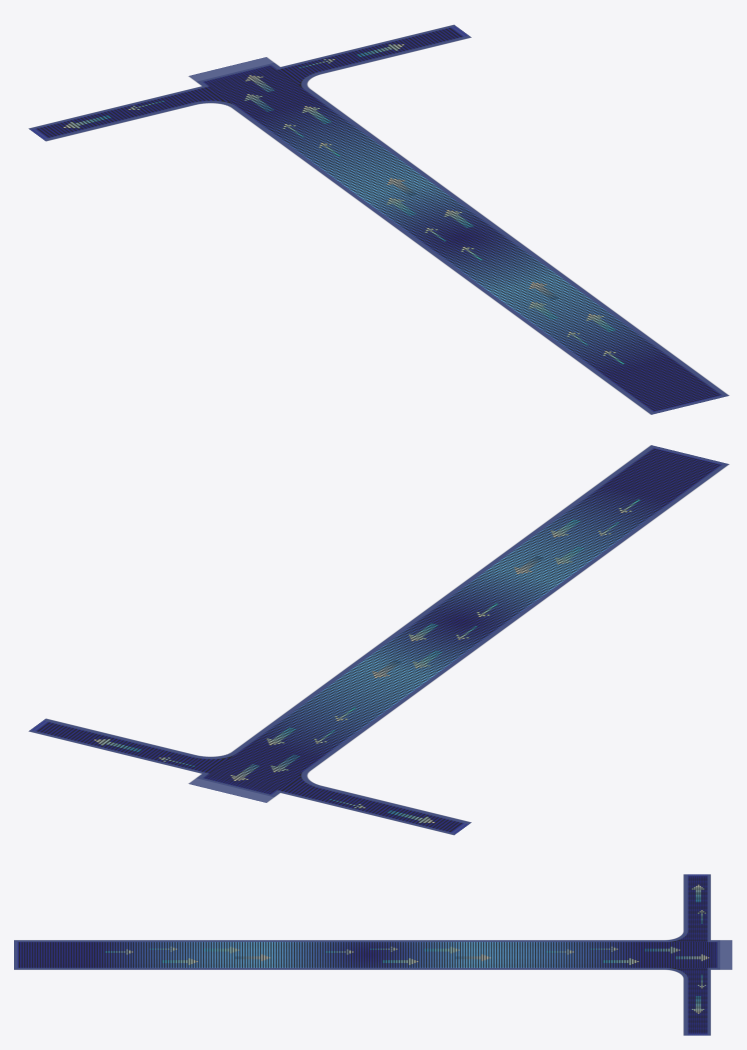
Rendered from WAY.gltf.
3 views of the same model, one above another, from view 1: azimuth 30°, elevation 25°; view 2: azimuth 150°, elevation 25°; view 3: azimuth 270°, elevation 25° (orthographic). The views are drawn at different scales.
Parts seen in each view (by area): view 1: Asset 2@5x; view 2: Asset 2@5x; view 3: Asset 2@5x.
Boxes of the visible parts, x1,y1,x2,y2 form: Asset 2@5x: (28,24,729,414); Asset 2@5x: (28,445,729,835); Asset 2@5x: (14,874,732,1035).
Size of the model in its own units: 44.97 by 0 by 84.72.
Materials: 1 (1 with a texture image).
